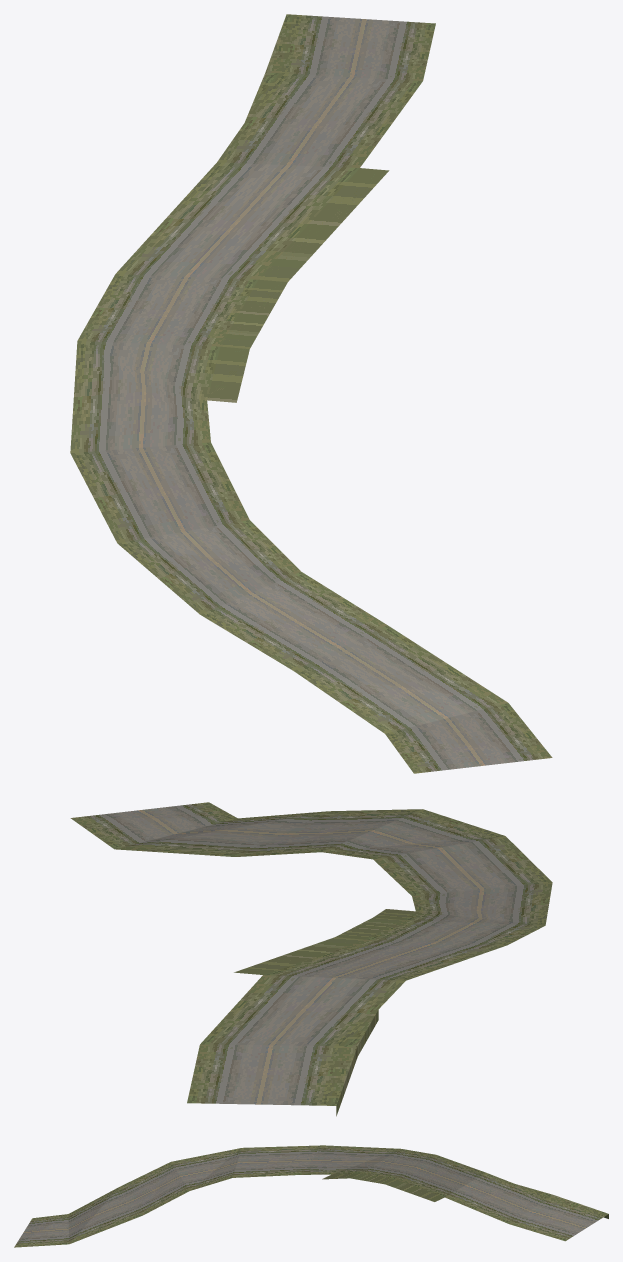
The model's file is lod_sfs154.obj.
3 views of the same model, one above another, from view 1: azimuth 30°, elevation 25°; view 2: azimuth 210°, elevation 25°; view 3: azimuth 270°, elevation 25° (orthographic). The views are drawn at different scales.
Visible parts, largest first — view 1: LOD_sfs154; view 2: LOD_sfs154; view 3: LOD_sfs154.
Boxes of the visible parts, <box> form: LOD_sfs154: <box>70,14,552,773</box>; LOD_sfs154: <box>70,802,552,1116</box>; LOD_sfs154: <box>14,1145,608,1247</box>.
Bounding box in the file's own units: 103 × 35.1 × 166.
Materials: 1 (1 with a texture image).
